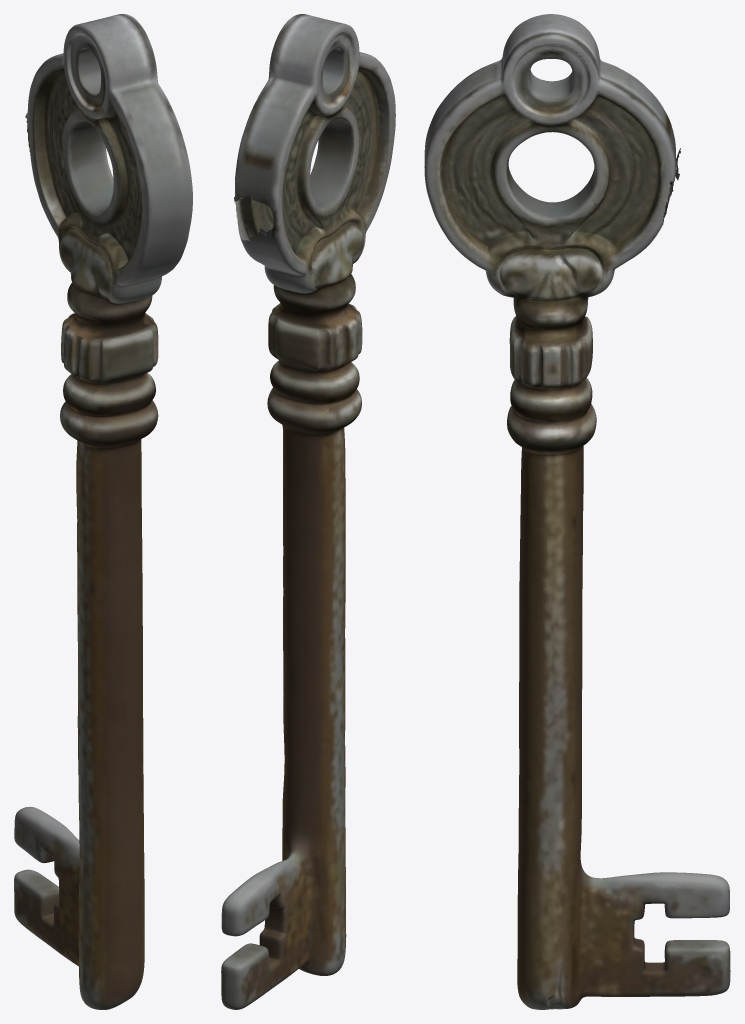
Rendered from Key11.fbx.
The picture shows the model from 3 angles, left to right: view 1: azimuth 30°, elevation 25°; view 2: azimuth 150°, elevation 25°; view 3: azimuth 270°, elevation 25°; orthographic projection. The views are drawn at different scales.
Parts seen in each view (by area): view 1: tripo_node_c6a790f1.010; view 2: tripo_node_c6a790f1.010; view 3: tripo_node_c6a790f1.010.
Boxes of the visible parts, x1,y1,x2,y2 form: tripo_node_c6a790f1.010: (14, 14, 192, 1009); tripo_node_c6a790f1.010: (221, 14, 395, 1009); tripo_node_c6a790f1.010: (424, 14, 730, 1009).
Bounding box in the file's own units: 3.88 × 43.04 × 12.1.
1 material, 1 textured.
